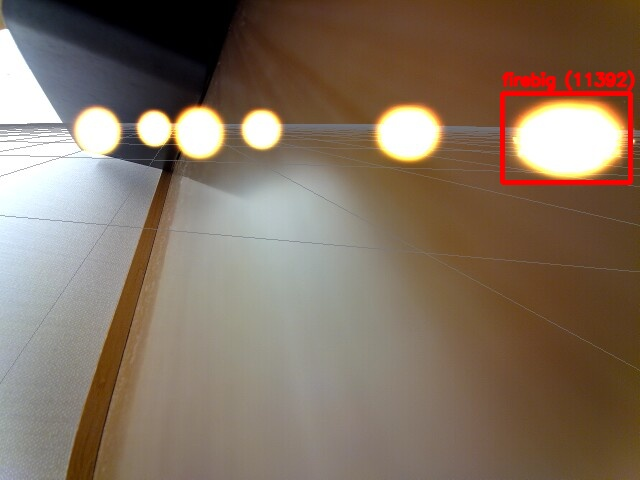firebig: (502, 93, 630, 182)
